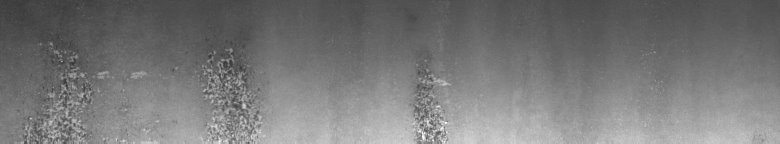hc: (406, 60, 451, 136)
